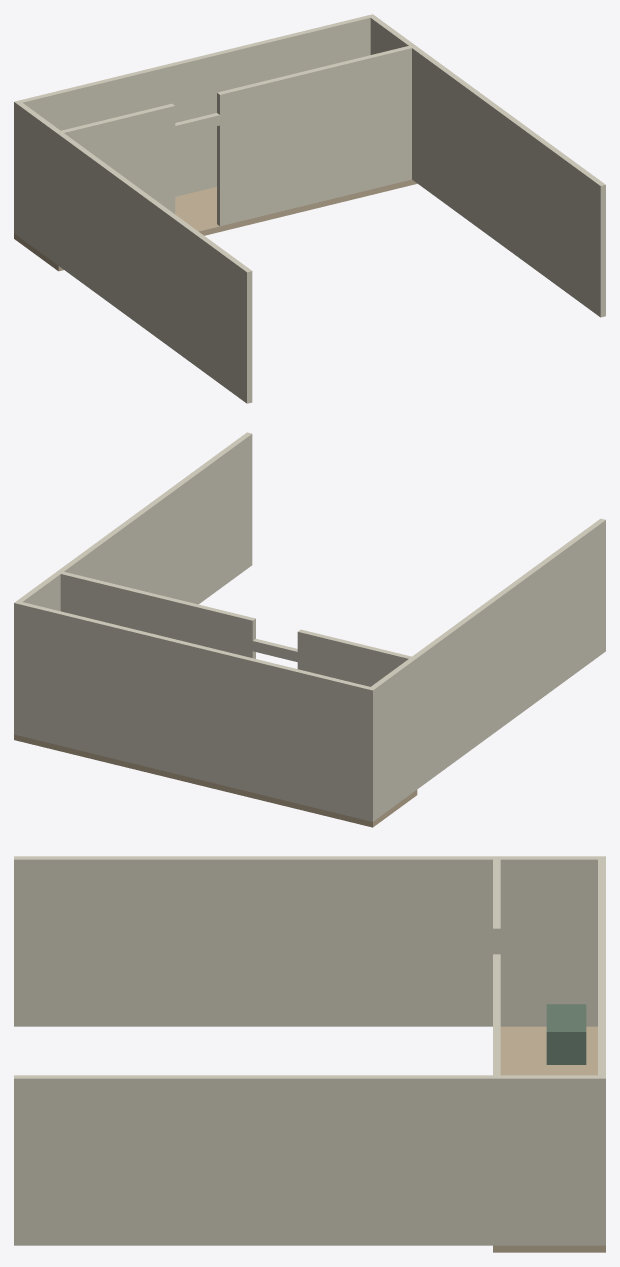
3 renders of one model, top to bottom at view 1: azimuth 30°, elevation 25°; view 2: azimuth 150°, elevation 25°; view 3: azimuth 270°, elevation 25°, orthographic. The views are drawn at different scales.
Parts seen in each view (by area): view 1: CW_1, CE_2, YARDN2_5, CN_3, YARDN_4, GROUND_0, YARDD-lintel_8; view 2: CN_3, CW_1, CE_2, YARDN2_5, YARDN_4, GROUND_0, YARDD-lintel_8; view 3: CE_2, CW_1, GROUND_0, CN_3, PLANT_9, YARDN2_5, YARDN_4.
Part boxes in pixels (box(x1,y1,x2,y2)): CW_1: box(14, 101, 252, 403); CE_2: box(368, 14, 605, 317); YARDN2_5: box(217, 45, 416, 226); CN_3: box(14, 14, 373, 233); YARDN_4: box(55, 103, 175, 265); GROUND_0: box(14, 179, 417, 271); YARDD-lintel_8: box(175, 113, 219, 136); CN_3: box(14, 601, 375, 820); CW_1: box(367, 518, 605, 821); CE_2: box(14, 432, 252, 735); YARDN2_5: box(56, 570, 255, 658); YARDN_4: box(297, 629, 417, 790); GROUND_0: box(14, 734, 417, 827); YARDD-lintel_8: box(252, 639, 297, 661); CE_2: box(14, 1075, 605, 1245); CW_1: box(14, 856, 605, 1026); GROUND_0: box(493, 1026, 605, 1252); CN_3: box(598, 856, 605, 1245); PLANT_9: box(546, 1004, 586, 1064); YARDN2_5: box(493, 956, 500, 1245); YARDN_4: box(493, 856, 500, 954).
Size of the model in its own units: 8 by 2.92 by 9.
